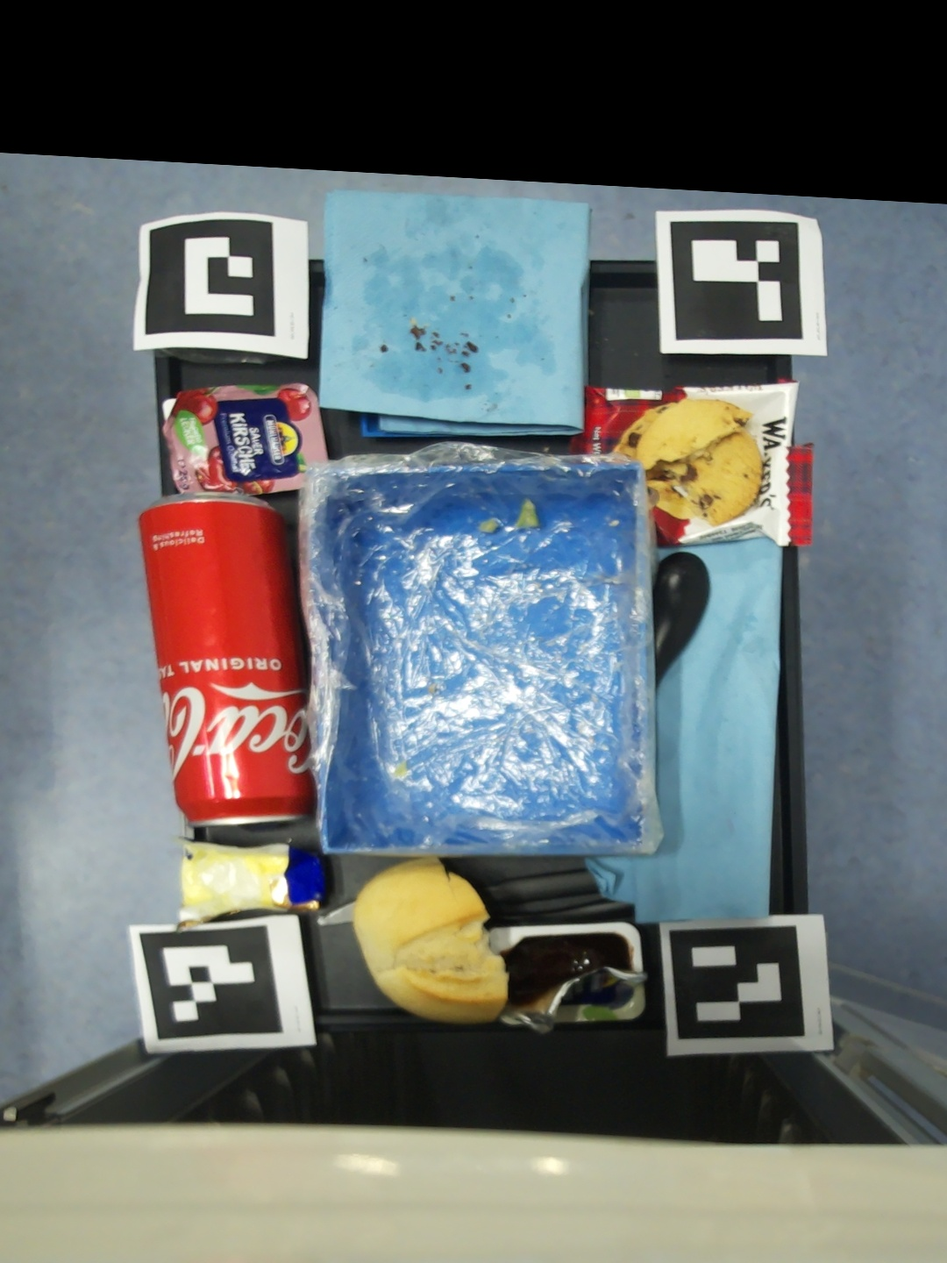bread_roll: (353, 856, 509, 1024)
butter: (173, 837, 324, 931)
cherry_jam: (162, 383, 331, 495)
cola_can: (140, 492, 316, 827)
cookie: (573, 377, 814, 547)
plum_jam: (488, 922, 645, 1033)
wrap_half_1: (516, 497, 539, 527), (479, 519, 498, 532), (394, 761, 407, 775)
